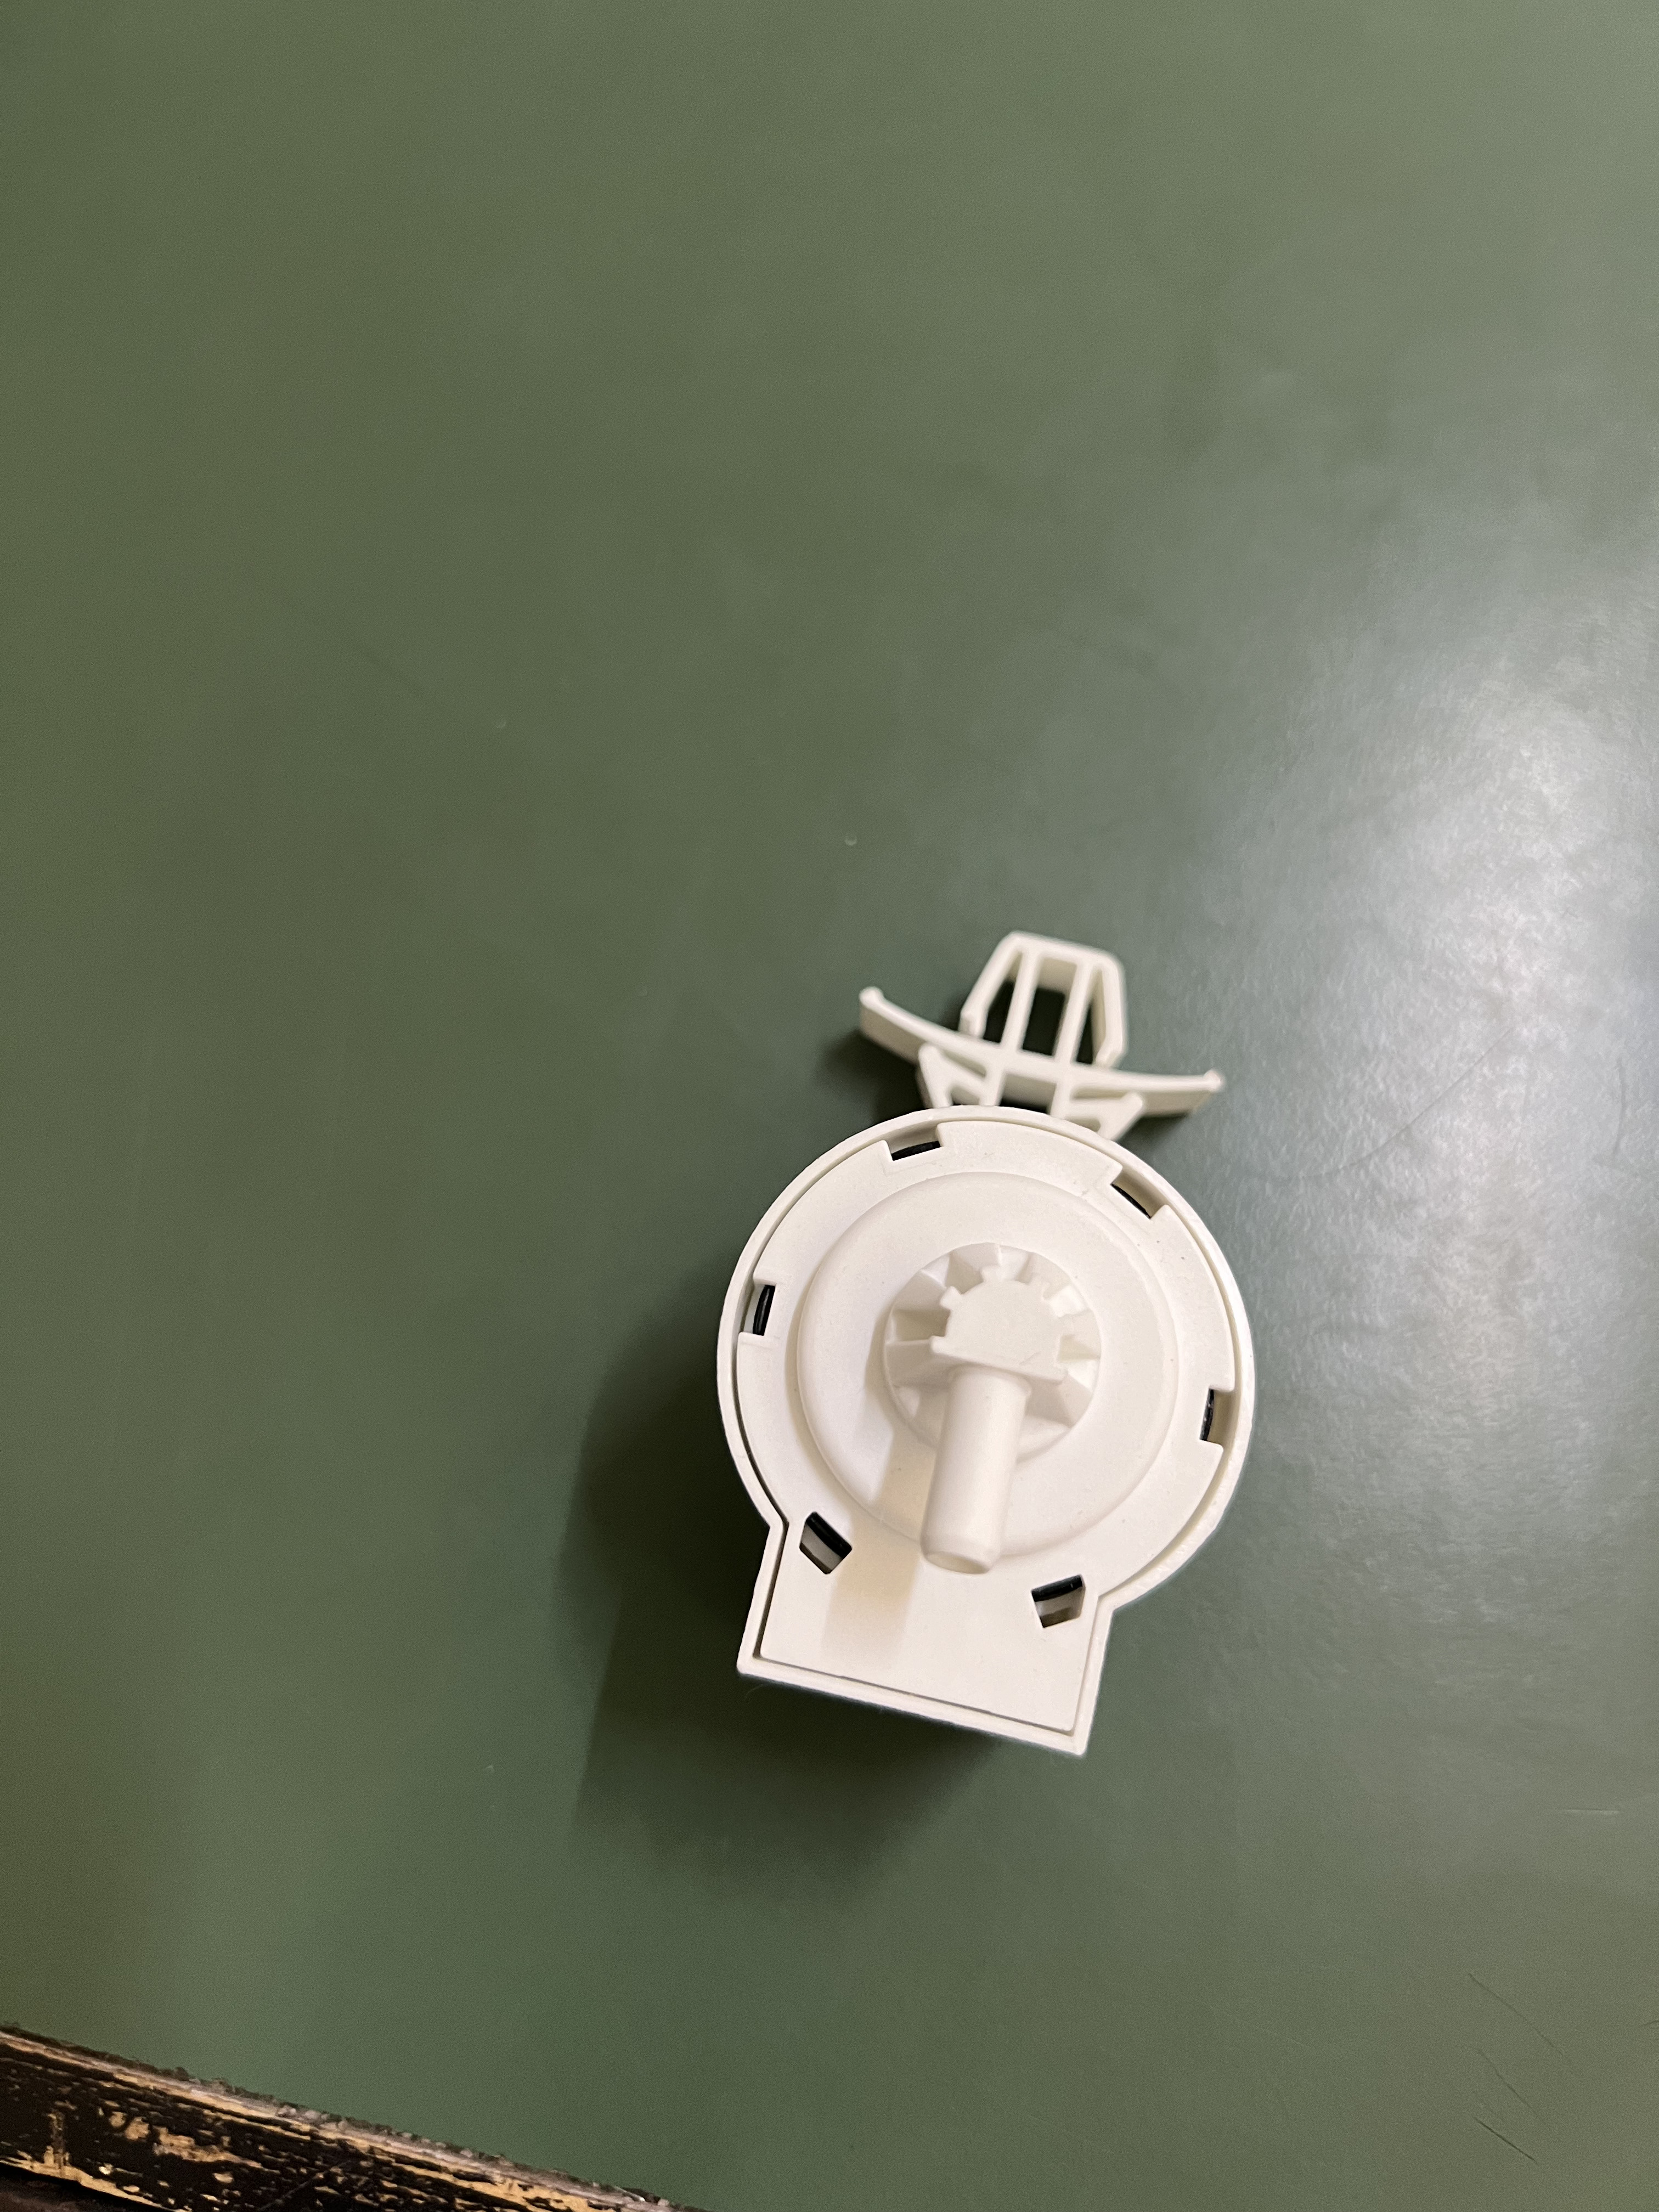pressure_switch_1: (720, 948, 1291, 1803)
